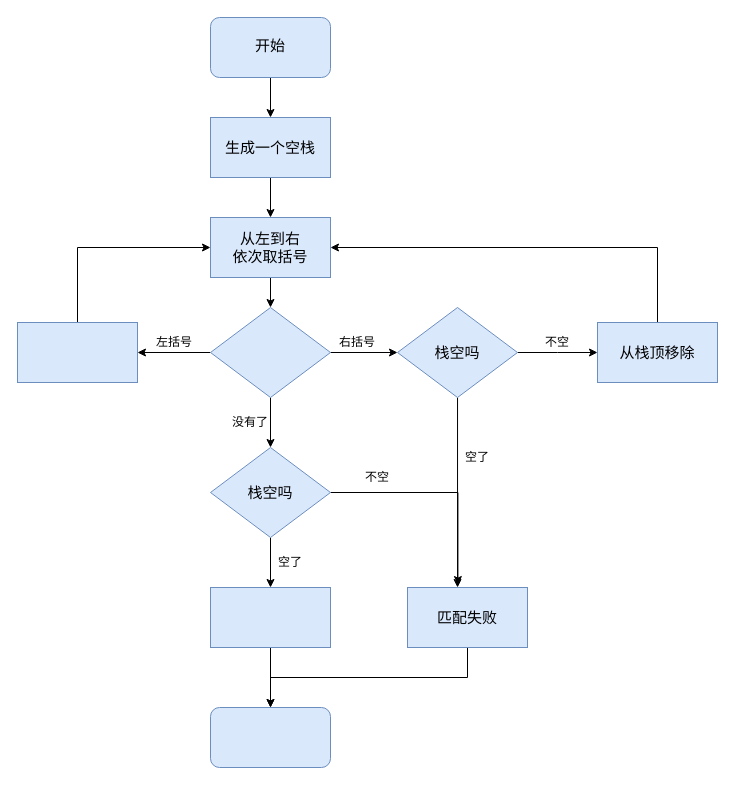
Image size: 735x785. Some labels were removed from this diagram. The centre of each missing label's shape, as x and y in pixels:
"判断是什么 符号" belongs at pixel 270 352.
"加入栈顶" belongs at pixel 77 352.
"匹配成功" belongs at pixel 270 617.
"结束" belongs at pixel 270 737.
